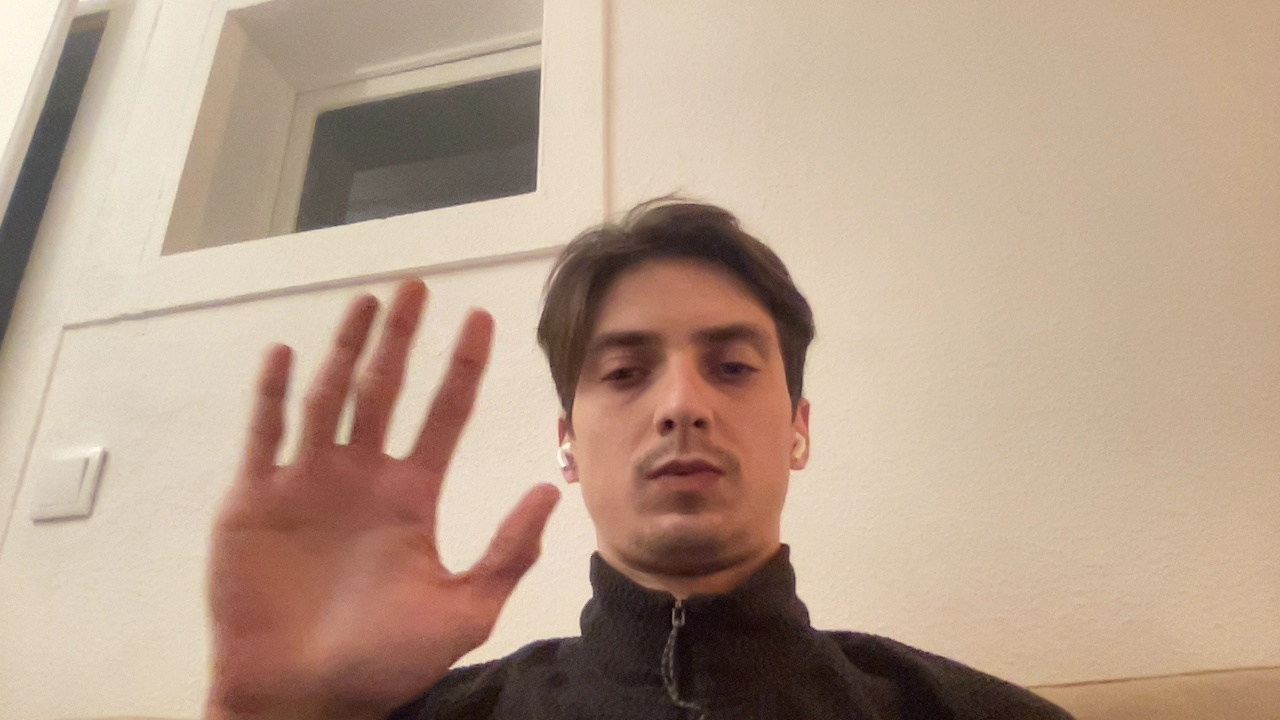Hello: (186, 249, 570, 703)
